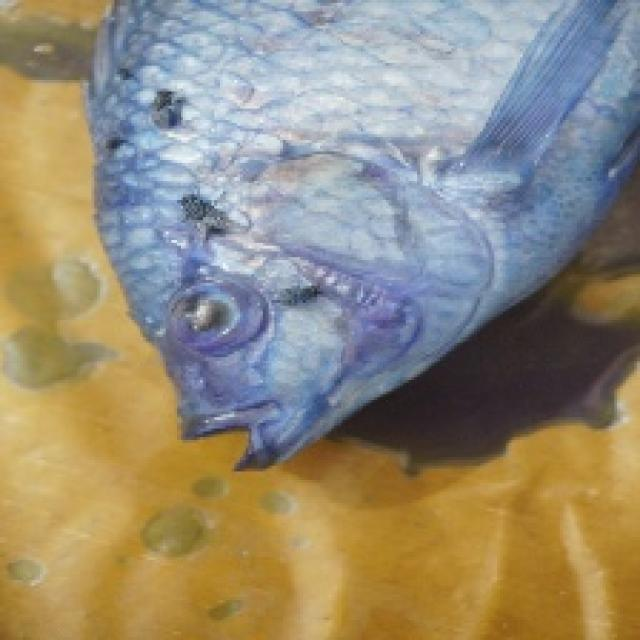Non-Fresh: (168, 261, 268, 363)
